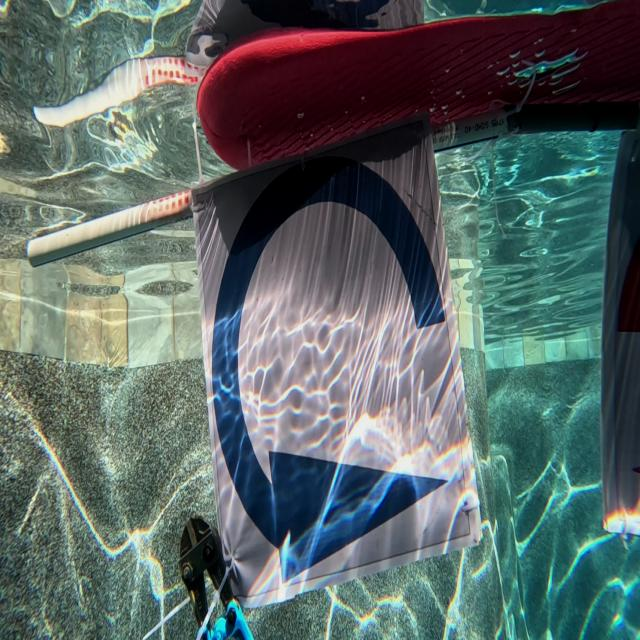blue_side: (202, 153, 472, 564)
